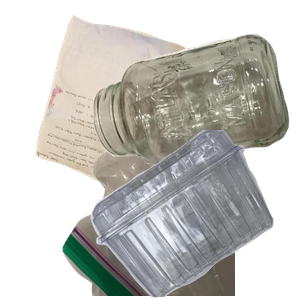glass: (91, 32, 300, 189)
paper: (33, 12, 214, 192)
plastic: (88, 130, 300, 300)
trash: (60, 120, 300, 300)
